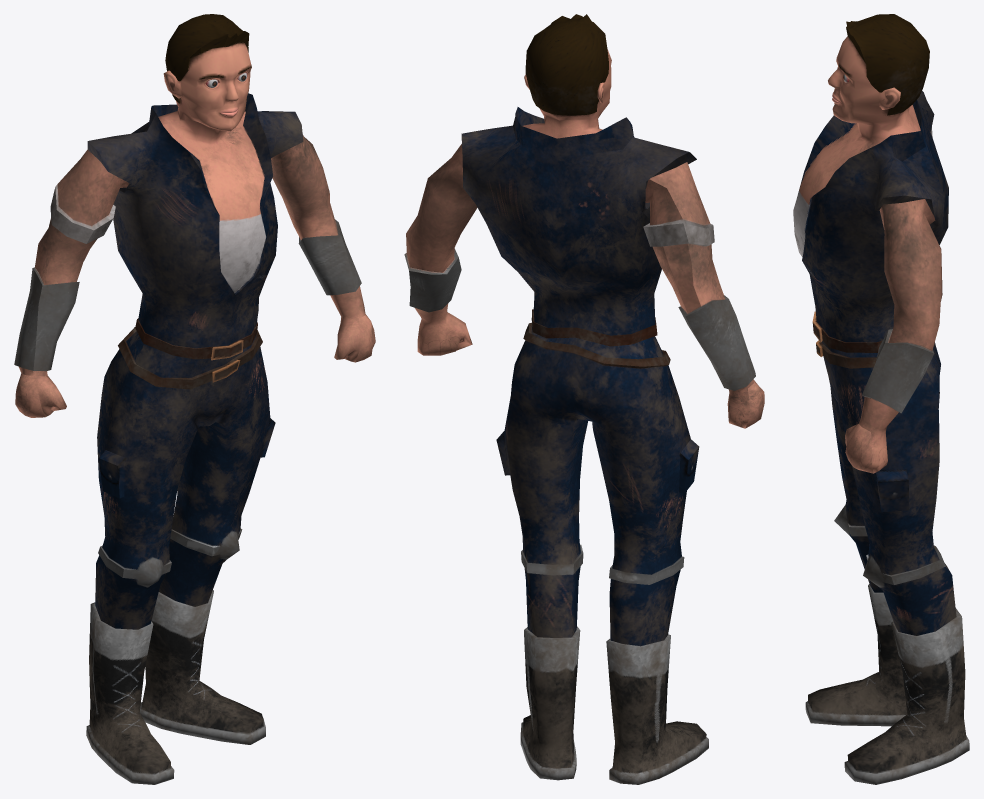
The model's file is Anim_abrir_puerta_ok_jugador.0035.obj.
3 renders of one model, left to right at view 1: azimuth 30°, elevation 25°; view 2: azimuth 150°, elevation 25°; view 3: azimuth 270°, elevation 25°, orthographic. The views are drawn at different scales.
Parts seen in each view (by area): view 1: polySurface1; view 2: polySurface1; view 3: polySurface1.
Part boxes in pixels (box(x1,y1,x2,y2)): polySurface1: box(14, 14, 375, 784); polySurface1: box(404, 14, 764, 784); polySurface1: box(793, 14, 969, 784).
Size of the model in its own units: 4.87 by 9.62 by 2.08.
